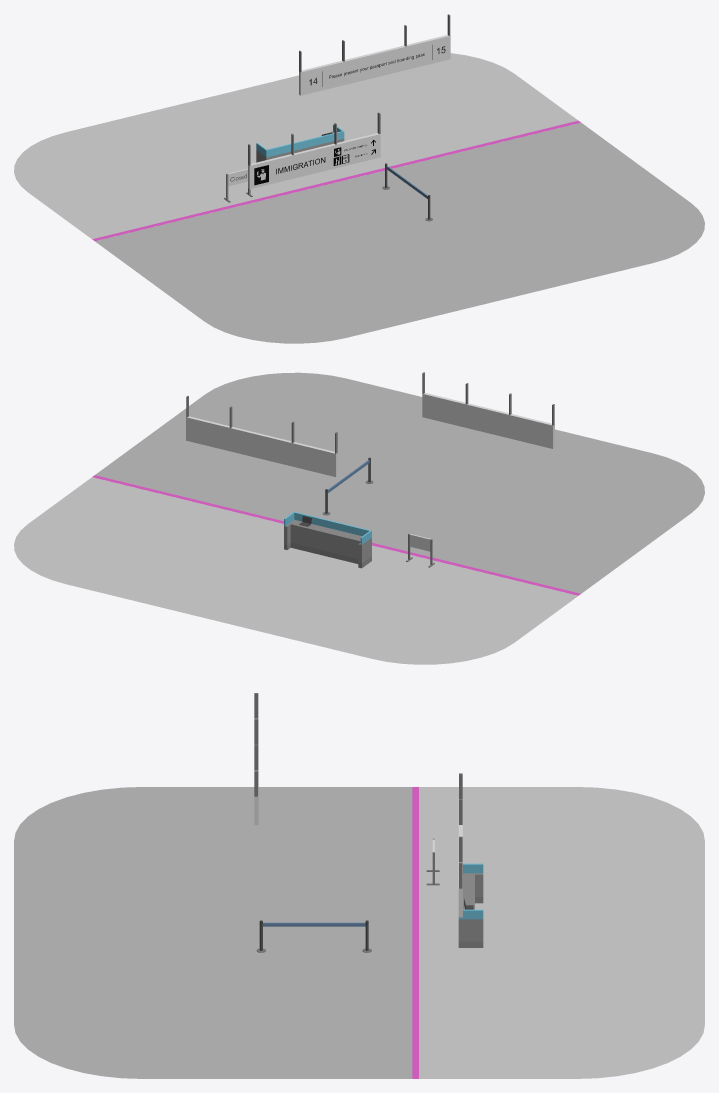
The model's file is EnvCustoms.fbx.
3 renders of one model, top to bottom at view 1: azimuth 30°, elevation 25°; view 2: azimuth 150°, elevation 25°; view 3: azimuth 270°, elevation 25°, orthographic. The views are drawn at different scales.
Visible parts, largest first — view 1: EnvCustomsGround, ImmigrationSign2, ImmigrationSign1, ImmigrationControlDesk; view 2: EnvCustomsGround, ImmigrationSign2, ImmigrationSign1, ImmigrationControlDesk; view 3: EnvCustomsGround, ImmigrationControlDesk, Cordon, ImmigrationSign2, ImmigrationSign1.
Boxes of the visible parts, x1,y1,x2,y2 form: EnvCustomsGround: (14,53,704,343); ImmigrationSign2: (299,14,450,95); ImmigrationSign1: (248,112,380,189); ImmigrationControlDesk: (256,124,344,162); EnvCustomsGround: (14,372,704,664); ImmigrationSign2: (186,396,337,476); ImmigrationSign1: (422,372,554,448); ImmigrationControlDesk: (284,511,371,568); EnvCustomsGround: (14,787,704,1078); ImmigrationControlDesk: (458,863,483,947); Cordon: (256,920,371,952); ImmigrationSign2: (458,773,462,917); ImmigrationSign1: (254,693,258,825).
Size of the model in its own units: 0.19 by 0.045 by 0.19.
